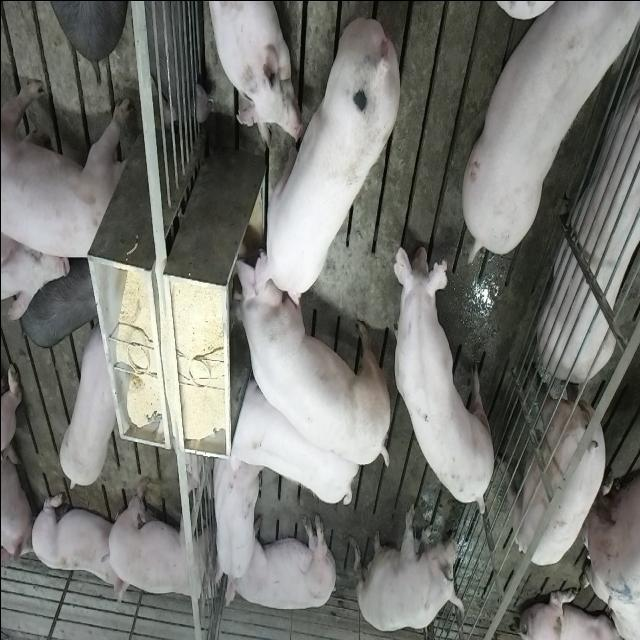Feeding: (250, 15, 402, 307), (224, 243, 388, 468)
Lateral_lying: (222, 512, 338, 612)
Sitting: (354, 502, 466, 632)
Standing: (458, 0, 634, 258), (394, 222, 496, 510), (2, 74, 128, 260), (507, 361, 615, 565), (229, 377, 359, 510), (105, 472, 219, 609), (54, 324, 117, 493), (19, 253, 99, 348)
Sternal_lying: (203, 0, 297, 146), (27, 484, 122, 606), (208, 449, 262, 593)
